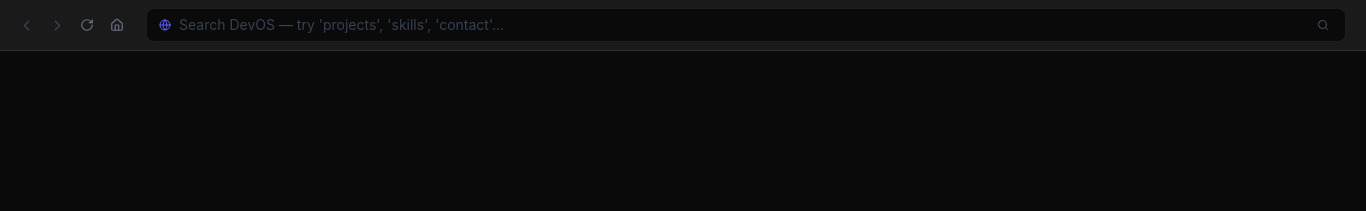
Test case: Browser Component — Internal-Only Navigation › typing "dsa" should suggest the DSA Dashboard
Type "dsa" into the field with placeholder "Search DevOS — try 'projects', 'skills', 'contact'...". click: coordinates (742, 25)
box: [179,15,1305,35]
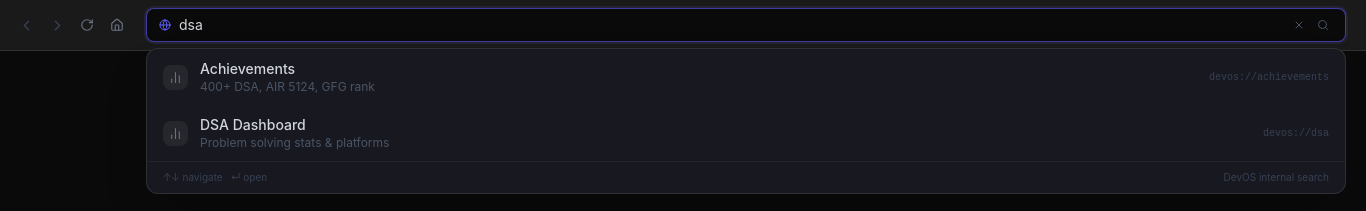
Expected: the text "DSA Dashboard" is shown, [200,116,306,133]
